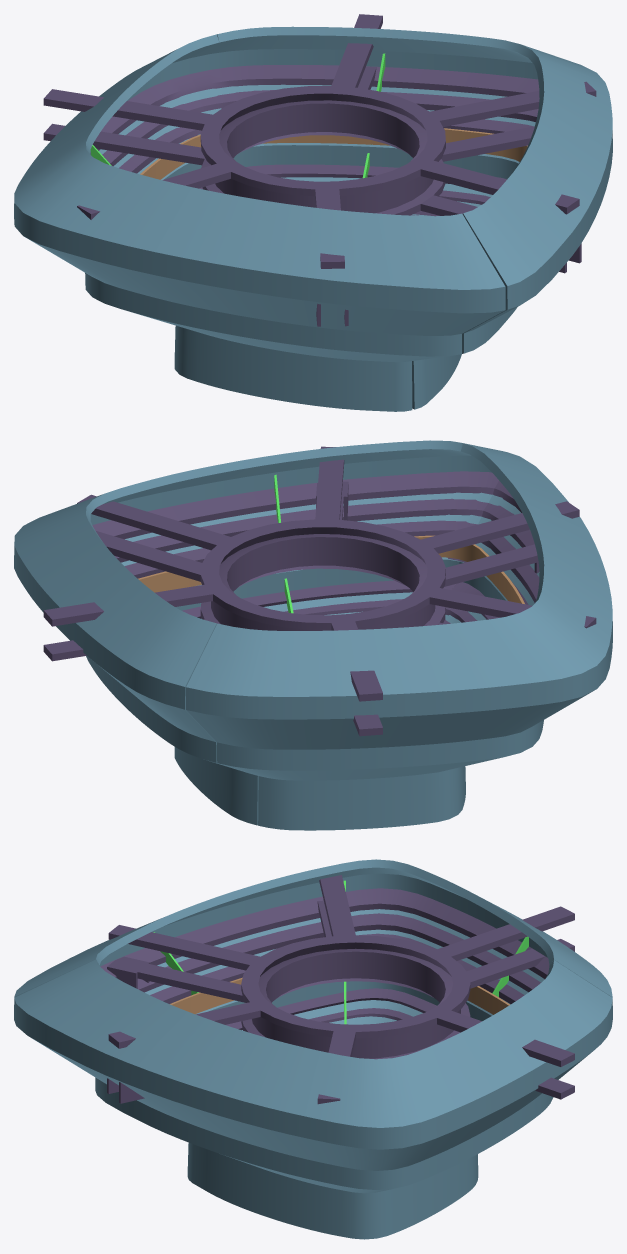
The model's file is 棒球場 - 複製.fbx.
3 renders of one model, top to bottom at view 1: azimuth 30°, elevation 25°; view 2: azimuth 150°, elevation 25°; view 3: azimuth 270°, elevation 25°, orthographic. The views are drawn at different scales.
Parts seen in each view (by area): view 1: 球場; view 2: 球場; view 3: 球場.
Part boxes in pixels (x1,y1,x2,y2): 球場: [14, 14, 612, 411]; 球場: [14, 440, 612, 830]; 球場: [14, 859, 612, 1239].
Size of the model in its own units: 80591 by 31184 by 78063.
